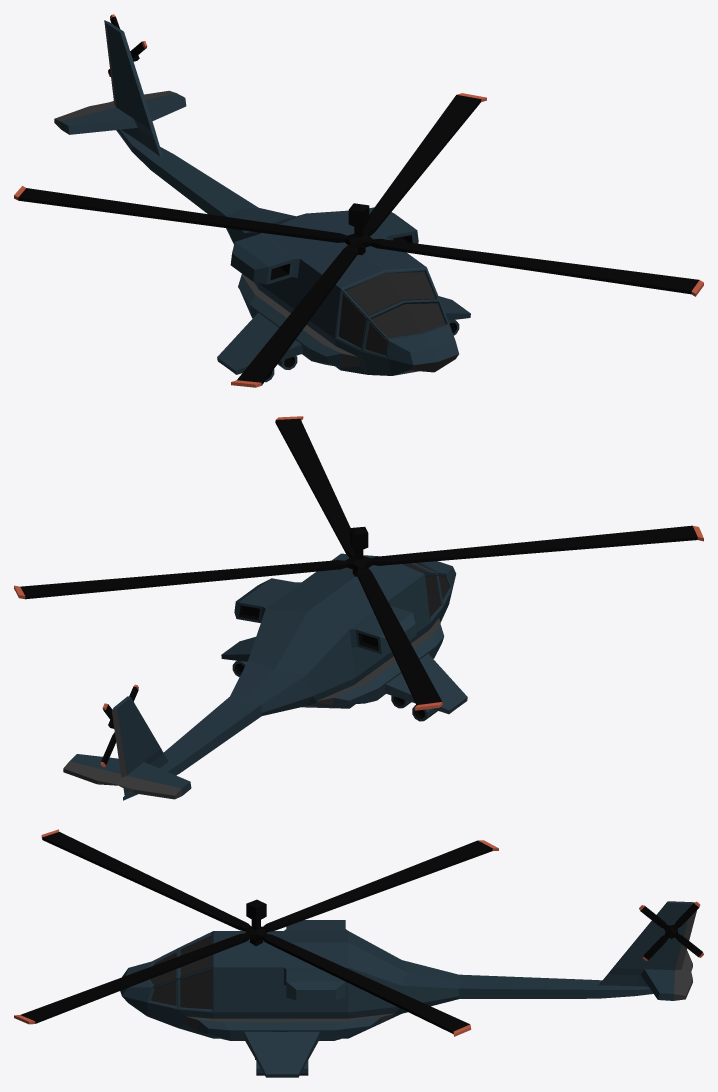
File: army-helicopter.glb
3 views of the same model, one above another, from view 1: azimuth 30°, elevation 25°; view 2: azimuth 150°, elevation 25°; view 3: azimuth 270°, elevation 25° (orthographic). The views are drawn at different scales.
Parts seen in each view (by area): view 1: Helicopter body, Main Rotor; view 2: Helicopter body, Main Rotor; view 3: Helicopter body, Main Rotor, Tail Rotor.
Boxes of the visible parts, x1=… form: Helicopter body: x1=54, y1=20, x2=470, y2=382; Main Rotor: x1=14, y1=93, x2=703, y2=387; Helicopter body: x1=63, y1=553, x2=467, y2=800; Main Rotor: x1=14, y1=416, x2=703, y2=710; Helicopter body: x1=120, y1=901, x2=696, y2=1077; Main Rotor: x1=14, y1=829, x2=498, y2=1036; Tail Rotor: x1=639, y1=901, x2=703, y2=960.
Bounding box in the file's own units: 11.35 × 3.54 × 16.14.
